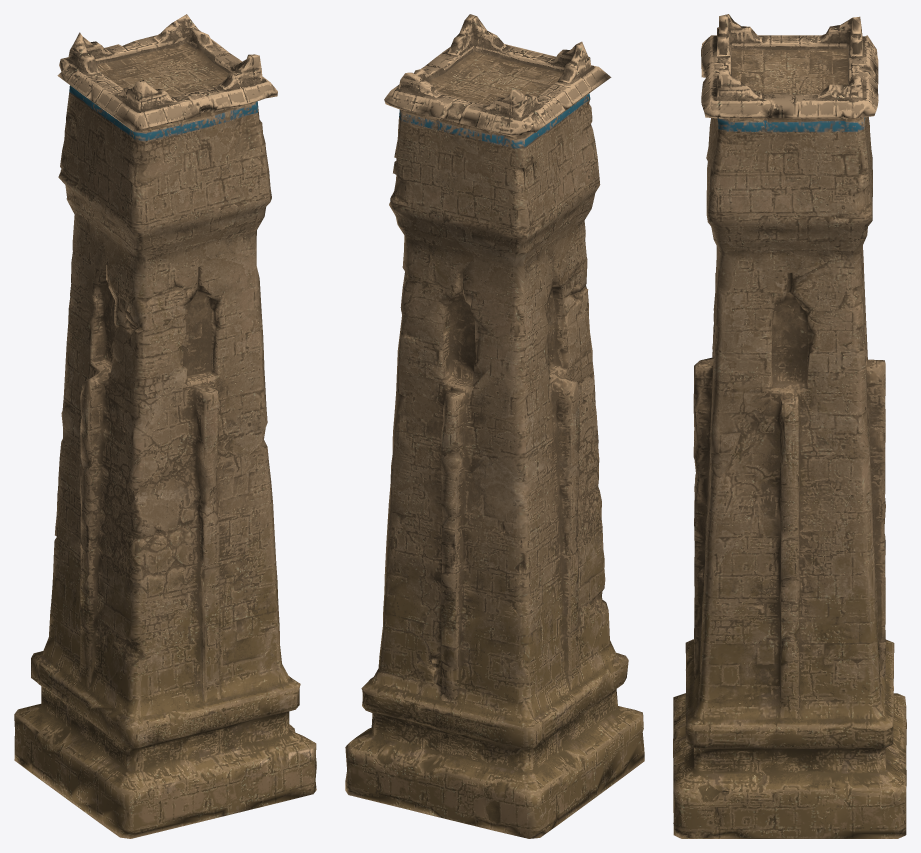
Rendered from big_tower.fbx.
3 views of the same model, side by side, from view 1: azimuth 30°, elevation 25°; view 2: azimuth 150°, elevation 25°; view 3: azimuth 270°, elevation 25° (orthographic). The views are drawn at different scales.
Parts seen in each view (by area): view 1: DesertTemple_Wall_Tall_02; view 2: DesertTemple_Wall_Tall_02; view 3: DesertTemple_Wall_Tall_02.
Boxes of the visible parts, x1,y1,x2,y2 form: DesertTemple_Wall_Tall_02: [14, 14, 316, 838]; DesertTemple_Wall_Tall_02: [345, 14, 644, 838]; DesertTemple_Wall_Tall_02: [673, 14, 906, 838].
Bounding box in the file's own units: 393 × 1387 × 393.
Materials: 1 (1 with a texture image).
